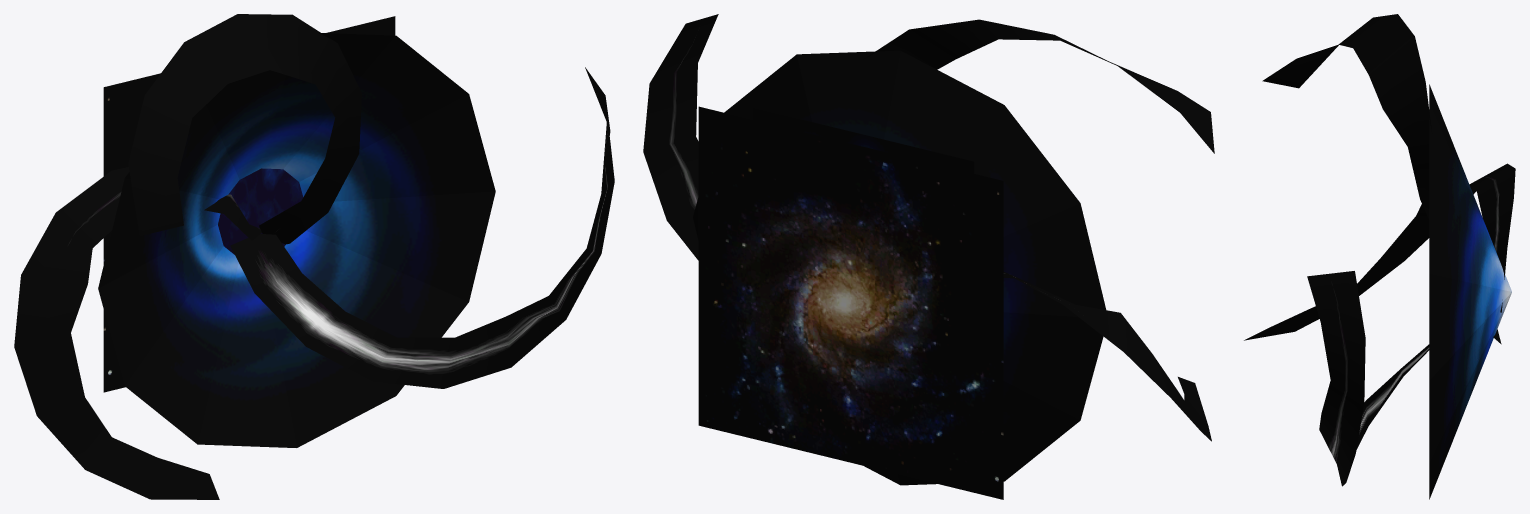
The model's file is portal.fbx.
3 renders of one model, left to right at view 1: azimuth 30°, elevation 25°; view 2: azimuth 150°, elevation 25°; view 3: azimuth 270°, elevation 25°, orthographic. The views are drawn at different scales.
Parts seen in each view (by area): view 1: pCone1, polySurface1, pPlane1, pPlane3; view 2: pPlane1, pCone1, polySurface1, pPlane3; view 3: polySurface1, pCone1.
Part boxes in pixels (x1,y1,x2,y2): pCone1: [98, 32, 495, 447]; polySurface1: [14, 14, 614, 499]; pPlane1: [103, 16, 395, 392]; pPlane3: [218, 168, 303, 254]; pPlane1: [698, 106, 1003, 499]; pCone1: [693, 50, 1106, 485]; polySurface1: [643, 14, 1214, 441]; pPlane3: [752, 107, 974, 173]; polySurface1: [1244, 14, 1515, 486]; pCone1: [1429, 84, 1511, 499].
Bounding box in the file's own units: 837 × 657 × 391.
